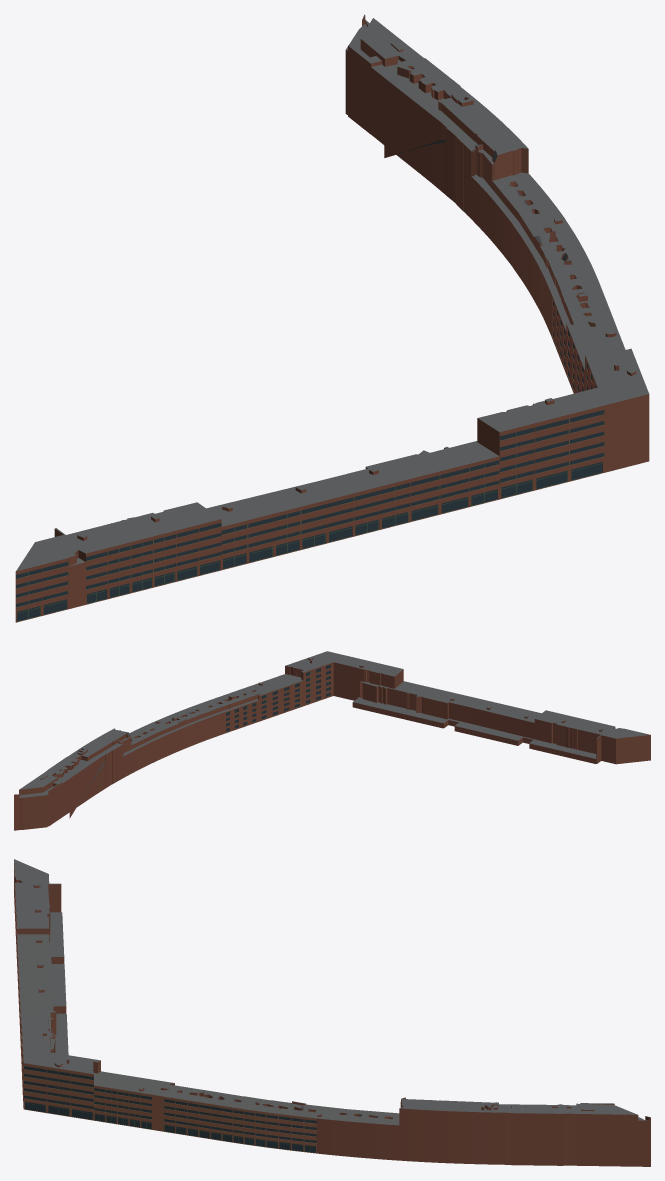
File: recipe-large-funenpark-427-184743.glb
3 views of the same model, one above another, from view 1: azimuth 30°, elevation 25°; view 2: azimuth 150°, elevation 25°; view 3: azimuth 270°, elevation 25° (orthographic). The views are drawn at different scales.
Parts seen in each view (by area): view 1: funenpark-427-184743; view 2: funenpark-427-184743; view 3: funenpark-427-184743.
Part boxes in pixels (left/top/right/bottom): funenpark-427-184743: left=15, top=14, right=649, bottom=622; funenpark-427-184743: left=14, top=651, right=650, bottom=830; funenpark-427-184743: left=14, top=859, right=650, bottom=1166.
Bounding box in the file's own units: 303 × 33.17 × 300.
